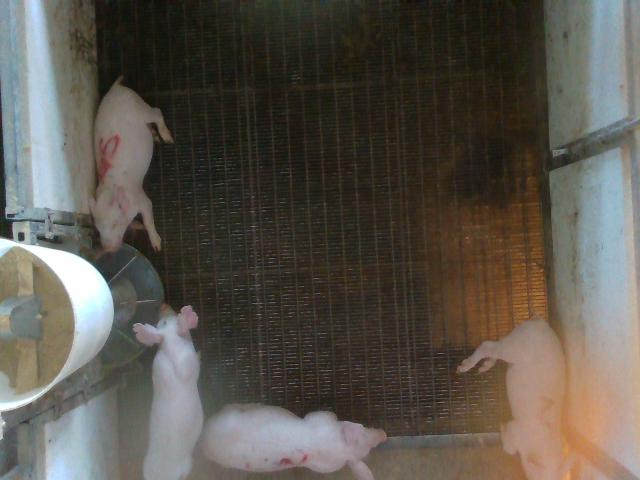pig-2: (458, 319, 571, 479)
pig-3: (202, 404, 386, 478)
pig-5: (89, 76, 174, 251)
